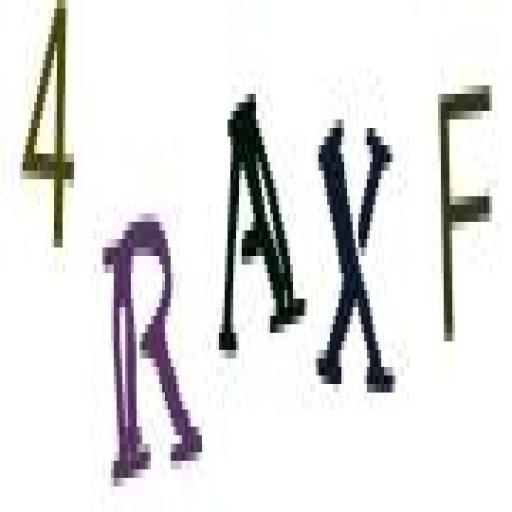4: (12, 0, 86, 265)
A: (213, 77, 309, 363)
F: (433, 73, 497, 373)
R: (94, 199, 208, 496)
X: (312, 104, 400, 410)
